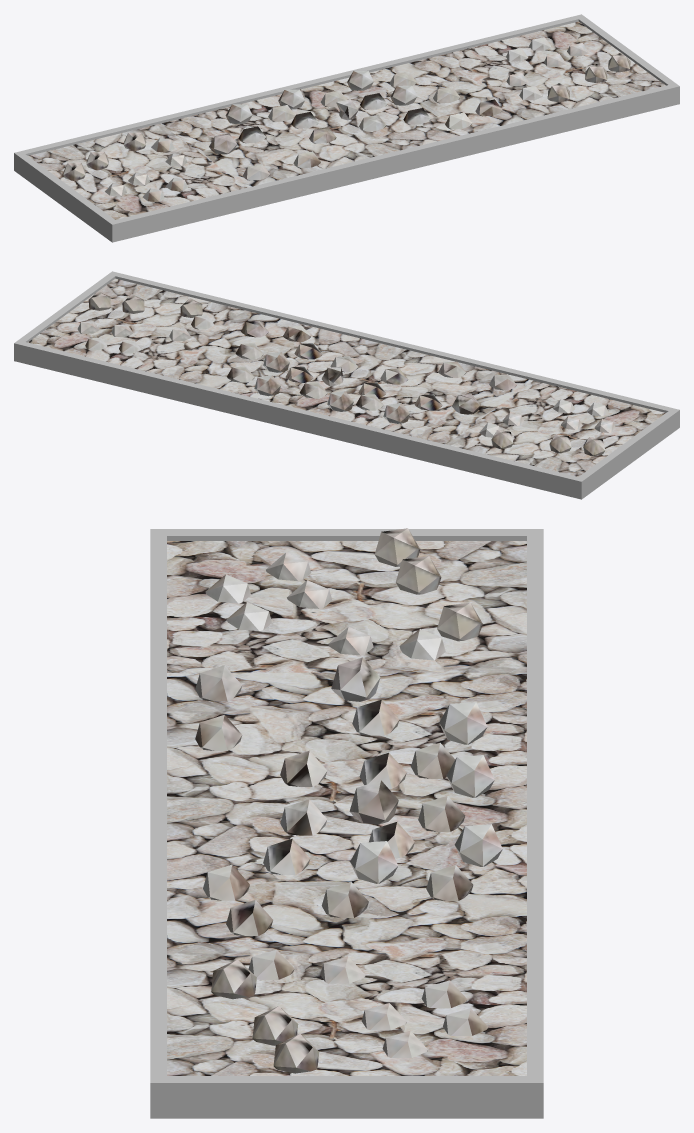
The model's file is gravel.fbx.
The picture shows the model from 3 angles, top to bottom: view 1: azimuth 30°, elevation 25°; view 2: azimuth 150°, elevation 25°; view 3: azimuth 270°, elevation 25°; orthographic projection. The views are drawn at different scales.
Visible parts, largest first — view 1: StoneM, Icosphere.003, Icosphere.002; view 2: StoneM, Icosphere.003, Icosphere.002; view 3: StoneM, Icosphere.002, Icosphere.003.
Boxes of the visible parts, left/top/right/bottom form: StoneM: left=156, top=49, right=537, bottom=207; Icosphere.003: left=14, top=118, right=254, bottom=242; Icosphere.002: left=440, top=14, right=679, bottom=138; StoneM: left=156, top=306, right=537, bottom=464; Icosphere.003: left=439, top=375, right=679, bottom=499; Icosphere.002: left=14, top=271, right=253, bottom=395; StoneM: left=150, top=657, right=543, bottom=949; Icosphere.002: left=150, top=944, right=543, bottom=1118; Icosphere.003: left=150, top=528, right=543, bottom=672.
Size of the model in its own units: 1 by 0.3 by 0.0503.
